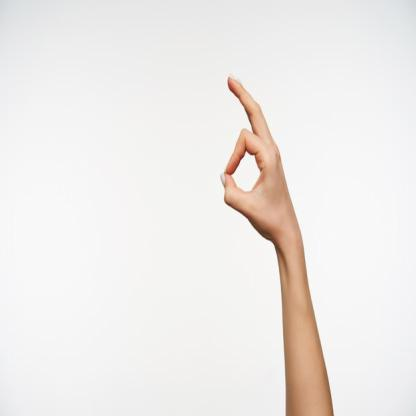ok: (214, 66, 294, 242)
